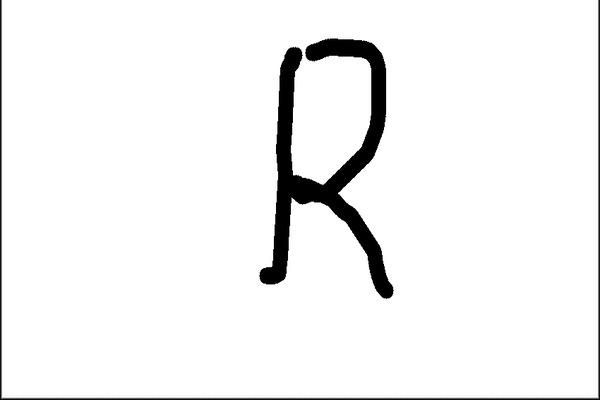R: (252, 29, 406, 305)
